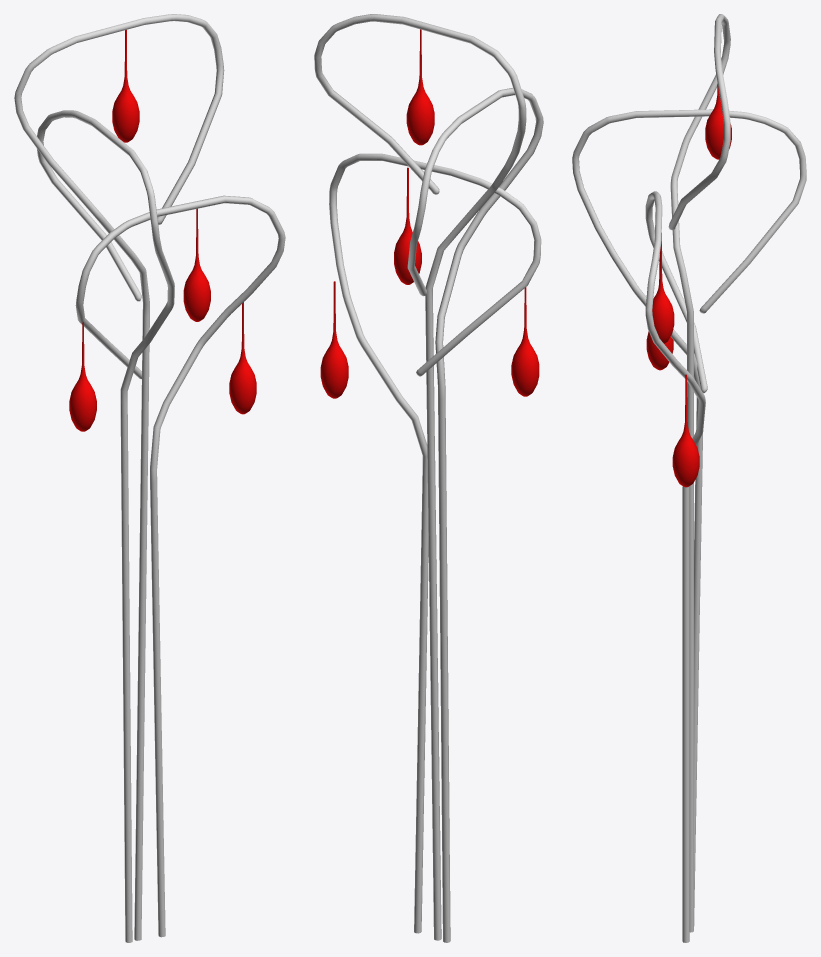
Rendered from wattle2.fbx.
3 renders of one model, left to right at view 1: azimuth 30°, elevation 25°; view 2: azimuth 150°, elevation 25°; view 3: azimuth 270°, elevation 25°, orthographic. The views are drawn at different scales.
Visible parts, largest first — view 1: wattle2_LOD0; view 2: wattle2_LOD0; view 3: wattle2_LOD0.
Boxes of the visible parts, bbox=[...] form: wattle2_LOD0: bbox=[14, 14, 285, 942]; wattle2_LOD0: bbox=[314, 14, 543, 942]; wattle2_LOD0: bbox=[572, 14, 806, 942].
Size of what is drawn, in the model's own units: 703 by 2642 by 630.
